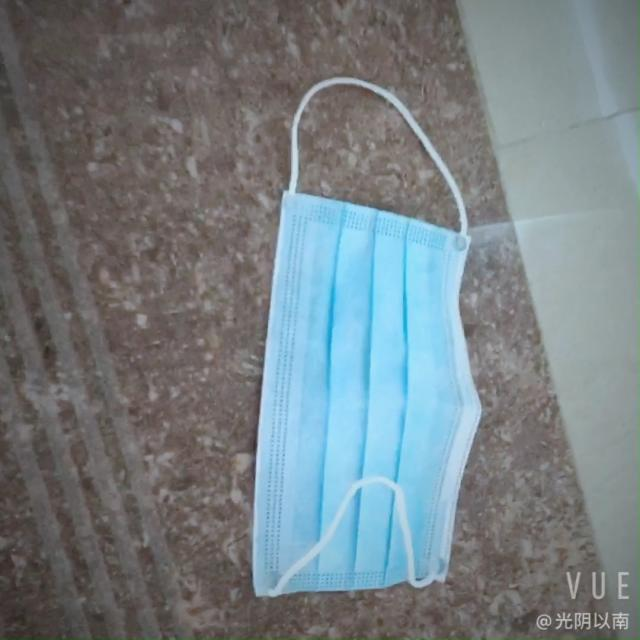non-organic waste: (242, 196, 489, 599)
